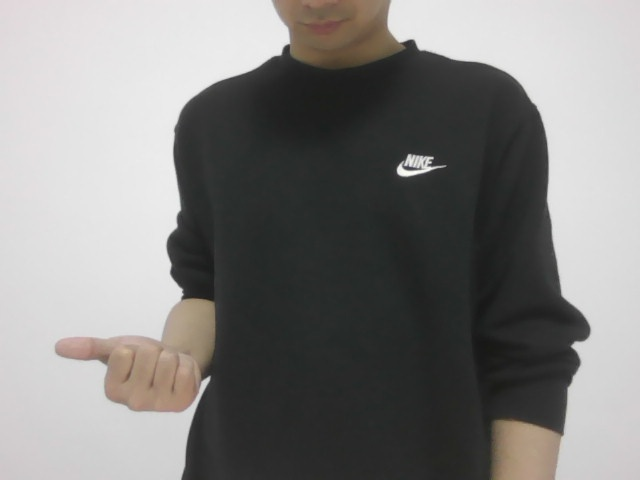have: (59, 318, 209, 419)
